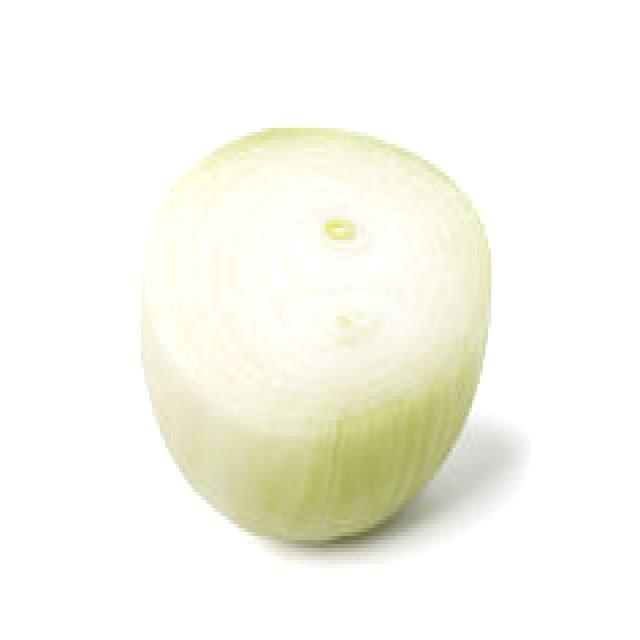onion: (137, 125, 498, 552)
